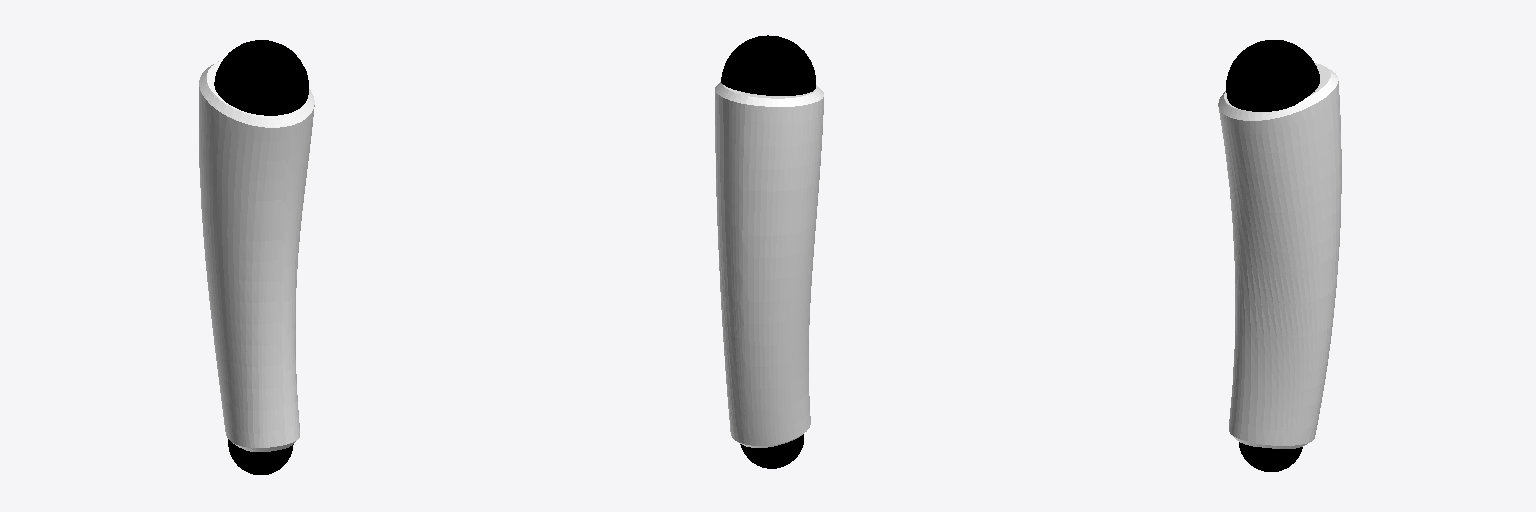
File: lowerArm.obj
3 renders of one model, left to right at view 1: azimuth 30°, elevation 25°; view 2: azimuth 150°, elevation 25°; view 3: azimuth 270°, elevation 25°, orthographic.
Visible parts, largest first — view 1: Sup17; view 2: Sup17; view 3: Sup17.
Part boxes in pixels (bbox=[...]): Sup17: bbox=[199, 40, 314, 474]; Sup17: bbox=[715, 35, 823, 468]; Sup17: bbox=[1218, 40, 1341, 471].
Size of the model in its own units: 3.04 by 12.94 by 3.39.